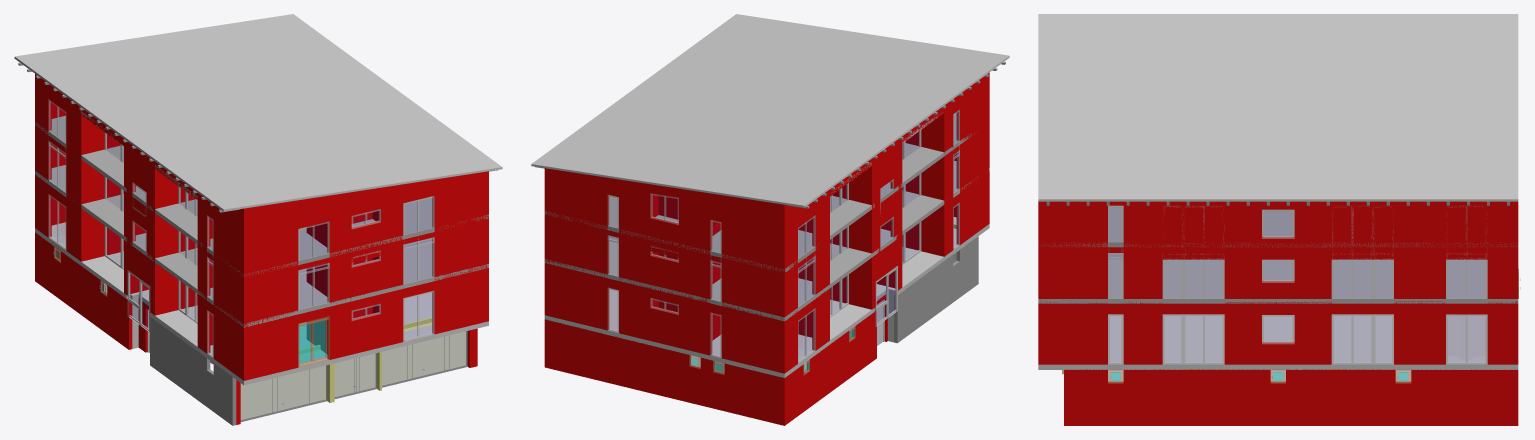
The picture shows the model from 3 angles, left to right: view 1: azimuth 30°, elevation 25°; view 2: azimuth 150°, elevation 25°; view 3: azimuth 270°, elevation 25°; orthographic projection. The views are drawn at different scales.
Parts seen in each view (by area): view 1: 2LyOnm3HfDoQyPBX$sZ__E, 046XTSGrf6dxo2lkn16MZf, 1uAKOeCRHEieYOZq68LNu9, 0xAVzJEbj9kxb4d$Dz41cz, 3qlbUuWS9A88oE2tMvG66y, 1HfDedA1j3lPv$vXYu6HeH, 11W_cg5ULCWweIIzjuiFFZ, 2yYVPeHk924hL_c8ydkqpH, 2A_KAqcqTEiPqZizQTx9OM, 2lZHj6JpP5cBLyEZKnkWjZ, 0RHVPOxrnDvxWVNHzveiky, 3JCb305qTBvA8daI0ZWHNo (+24 smaller); view 2: 2LyOnm3HfDoQyPBX$sZ__E, 3rPusAl2nEB9pfvUhJpX0K, 0H_FTp1DbDPeIFCLy$Y_8F, 1NA0QMNKz2VQ5s71jak25w, 1w8_CCrtPEfOBGI_Kwyr7e, 1HfDedA1j3lPv$vXYu6HeH, 3qlbUuWS9A88oE2tMvG66y, 11W_cg5ULCWweIIzjuiFFZ, 2yYVPeHk924hL_c8ydkqpH, 2A_KAqcqTEiPqZizQTx9OM, 3JCb305qTBvA8daI0ZWHNo, 1HB_XQ3J92exzCXe1ctMzA (+17 smaller); view 3: 2LyOnm3HfDoQyPBX$sZ__E, 01mtkDlAX6HALMLHtKTh3S, 25S0QWC9bABB8JMFCJ1wnG, 3u0z6l7sX588lZA7MWaLdb, 0fecc4Yhz8mwl2kyChH13y, 1HfDedA1j3lPv$vXYu6HeH, 3qlbUuWS9A88oE2tMvG66y, 2A_KAqcqTEiPqZizQTx9OM, 0VKSR5UqL8cx5tq76rlPKp, 1zvcbuoJ9C59Dzmi3Ti8gC, 3oVyViFjfD2h1ce_VLuuBq.
Part boxes in pixels (bbox=[...]): 2LyOnm3HfDoQyPBX$sZ__E: bbox=[14, 14, 502, 211]; 046XTSGrf6dxo2lkn16MZf: bbox=[242, 172, 485, 289]; 1uAKOeCRHEieYOZq68LNu9: bbox=[242, 269, 485, 380]; 0xAVzJEbj9kxb4d$Dz41cz: bbox=[242, 220, 485, 326]; 3qlbUuWS9A88oE2tMvG66y: bbox=[35, 165, 488, 327]; 1HfDedA1j3lPv$vXYu6HeH: bbox=[35, 222, 488, 385]; 11W_cg5ULCWweIIzjuiFFZ: bbox=[35, 232, 132, 349]; 2yYVPeHk924hL_c8ydkqpH: bbox=[150, 317, 236, 425]; 2A_KAqcqTEiPqZizQTx9OM: bbox=[35, 115, 488, 276]; 2lZHj6JpP5cBLyEZKnkWjZ: bbox=[240, 365, 327, 421]; 0RHVPOxrnDvxWVNHzveiky: bbox=[382, 331, 467, 387]; 3JCb305qTBvA8daI0ZWHNo: bbox=[199, 194, 241, 287]; 2LyOnm3HfDoQyPBX$sZ__E: bbox=[531, 14, 1009, 207]; 3rPusAl2nEB9pfvUhJpX0K: bbox=[544, 168, 786, 283]; 0H_FTp1DbDPeIFCLy$Y_8F: bbox=[544, 263, 786, 373]; 1NA0QMNKz2VQ5s71jak25w: bbox=[548, 320, 781, 424]; 1w8_CCrtPEfOBGI_Kwyr7e: bbox=[544, 215, 786, 320]; 1HfDedA1j3lPv$vXYu6HeH: bbox=[544, 217, 989, 377]; 3qlbUuWS9A88oE2tMvG66y: bbox=[544, 160, 989, 321]; 11W_cg5ULCWweIIzjuiFFZ: bbox=[781, 310, 876, 425]; 2yYVPeHk924hL_c8ydkqpH: bbox=[894, 236, 978, 343]; 2A_KAqcqTEiPqZizQTx9OM: bbox=[544, 113, 976, 271]; 3JCb305qTBvA8daI0ZWHNo: bbox=[946, 77, 987, 164]; 1HB_XQ3J92exzCXe1ctMzA: bbox=[945, 173, 987, 255]; 2LyOnm3HfDoQyPBX$sZ__E: bbox=[1038, 14, 1518, 201]; 01mtkDlAX6HALMLHtKTh3S: bbox=[1038, 201, 1513, 259]; 25S0QWC9bABB8JMFCJ1wnG: bbox=[1068, 369, 1518, 425]; 3u0z6l7sX588lZA7MWaLdb: bbox=[1038, 303, 1513, 364]; 0fecc4Yhz8mwl2kyChH13y: bbox=[1038, 247, 1513, 303]; 1HfDedA1j3lPv$vXYu6HeH: bbox=[1038, 314, 1518, 369]; 3qlbUuWS9A88oE2tMvG66y: bbox=[1038, 253, 1518, 303]; 2A_KAqcqTEiPqZizQTx9OM: bbox=[1042, 206, 1516, 247]; 0VKSR5UqL8cx5tq76rlPKp: bbox=[1331, 314, 1373, 364]; 1zvcbuoJ9C59Dzmi3Ti8gC: bbox=[1446, 314, 1487, 364]; 3oVyViFjfD2h1ce_VLuuBq: bbox=[1183, 314, 1224, 364].
Bounding box in the file's own units: 14.24 × 11.2 × 18.59.
